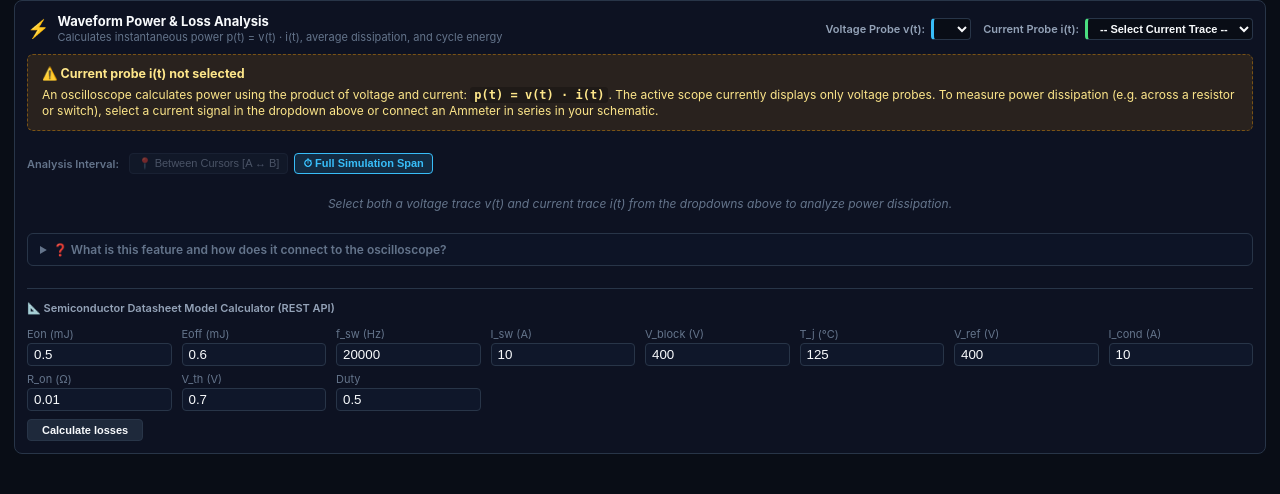
posts switching and conduction loss fields and renders the combined result
This screenshot has width=1280, height=494.
Click the button "Calculate losses" at point(85, 430), box [27,419,143,441]
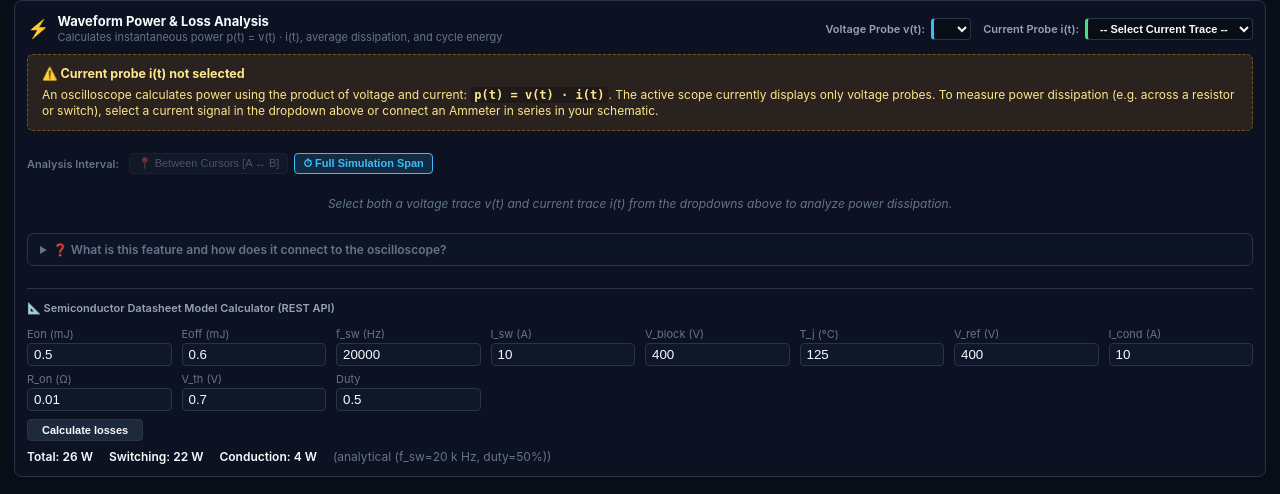
Check: the element with test id "loss-result" is shown, box [27,449,551,464]
Check: the element with test id "loss-result" shows "26", box [62,449,93,464]
Check: the element with test id "loss-result" shows "22", box [173,449,203,464]
